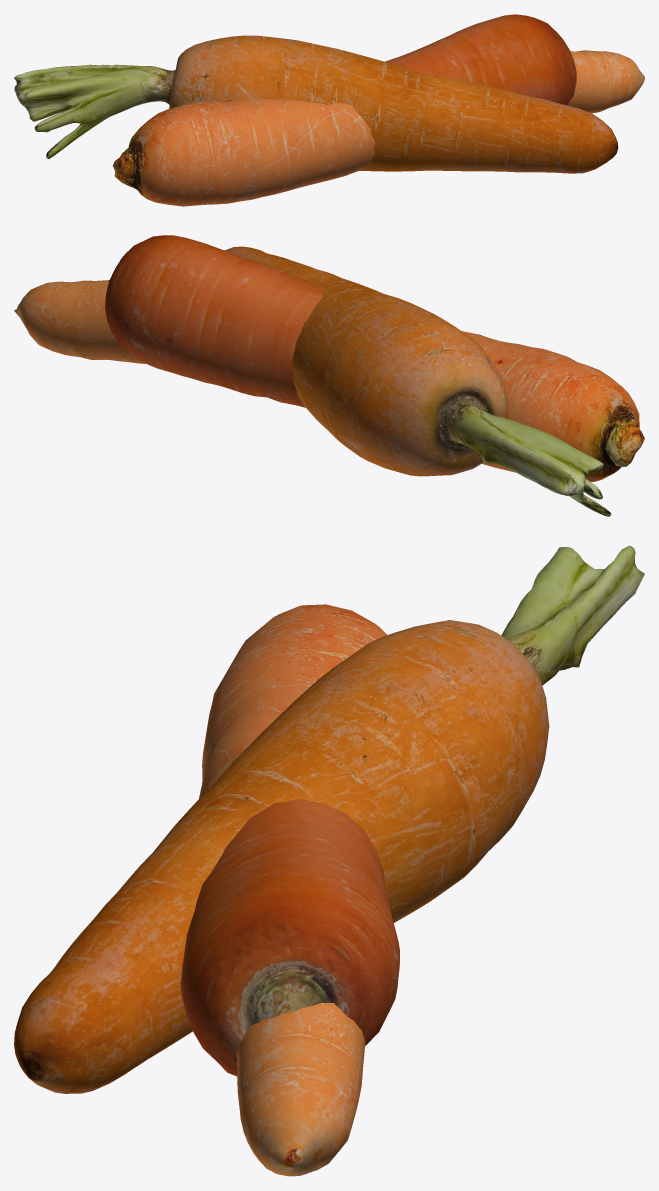
The model's file is kiri_carotte.gltf.
3 views of the same model, one above another, from view 1: azimuth 30°, elevation 25°; view 2: azimuth 150°, elevation 25°; view 3: azimuth 270°, elevation 25° (orthographic). The views are drawn at different scales.
Visible parts, largest first — view 1: A134_Carrot, A31_Carrot, A103_Carrot; view 2: A134_Carrot, A103_Carrot, A31_Carrot; view 3: A134_Carrot, A103_Carrot, A31_Carrot.
Part boxes in pixels (left/top/right/bottom): A134_Carrot: left=14, top=35, right=618, bottom=173; A31_Carrot: left=112, top=50, right=644, bottom=206; A103_Carrot: left=385, top=14, right=576, bottom=105; A134_Carrot: left=224, top=246, right=611, bottom=516; A103_Carrot: left=105, top=235, right=324, bottom=407; A31_Carrot: left=14, top=280, right=644, bottom=481; A134_Carrot: left=14, top=545, right=644, bottom=1093; A103_Carrot: left=180, top=799, right=399, bottom=1076; A31_Carrot: left=199, top=604, right=387, bottom=1176.
Size of the model in its own units: 0.2749 by 0.059 by 0.1465.
3 materials, 3 textured.
